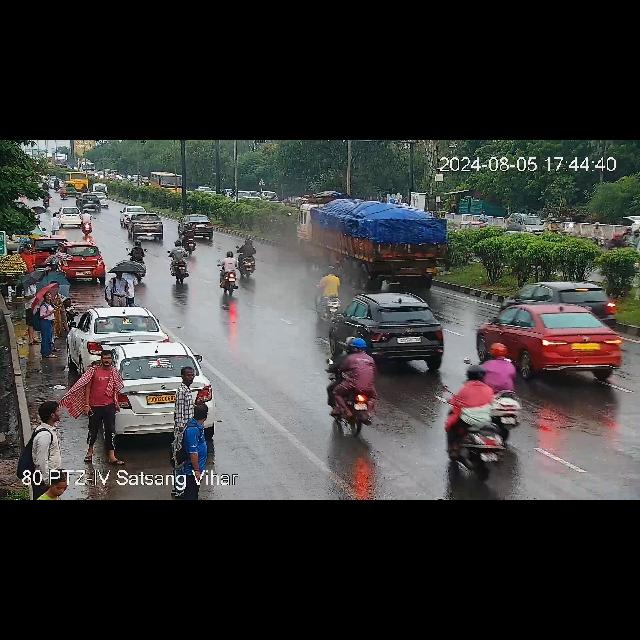bus: (152, 171, 184, 193), (63, 171, 91, 189)
car: (464, 303, 626, 381), (328, 291, 456, 365), (116, 340, 204, 428), (72, 306, 160, 362), (504, 281, 618, 309), (58, 245, 106, 281), (180, 214, 216, 240), (130, 216, 164, 240), (509, 214, 547, 232), (74, 194, 104, 212), (56, 208, 80, 228), (120, 204, 136, 226), (95, 192, 108, 205), (93, 182, 109, 192)
motorcycle: (330, 333, 378, 435), (447, 367, 495, 469), (482, 344, 524, 434), (214, 250, 243, 294), (314, 266, 340, 314), (168, 246, 196, 284), (238, 238, 258, 278), (178, 223, 200, 253), (130, 242, 148, 278), (81, 212, 93, 234), (61, 186, 67, 198)
person: (86, 350, 124, 464), (25, 396, 77, 456), (175, 405, 221, 471), (102, 269, 138, 307), (174, 368, 194, 432), (22, 280, 38, 348), (41, 288, 57, 354), (56, 281, 70, 329), (20, 244, 40, 274), (46, 257, 60, 275)
truck: (298, 200, 454, 280)
